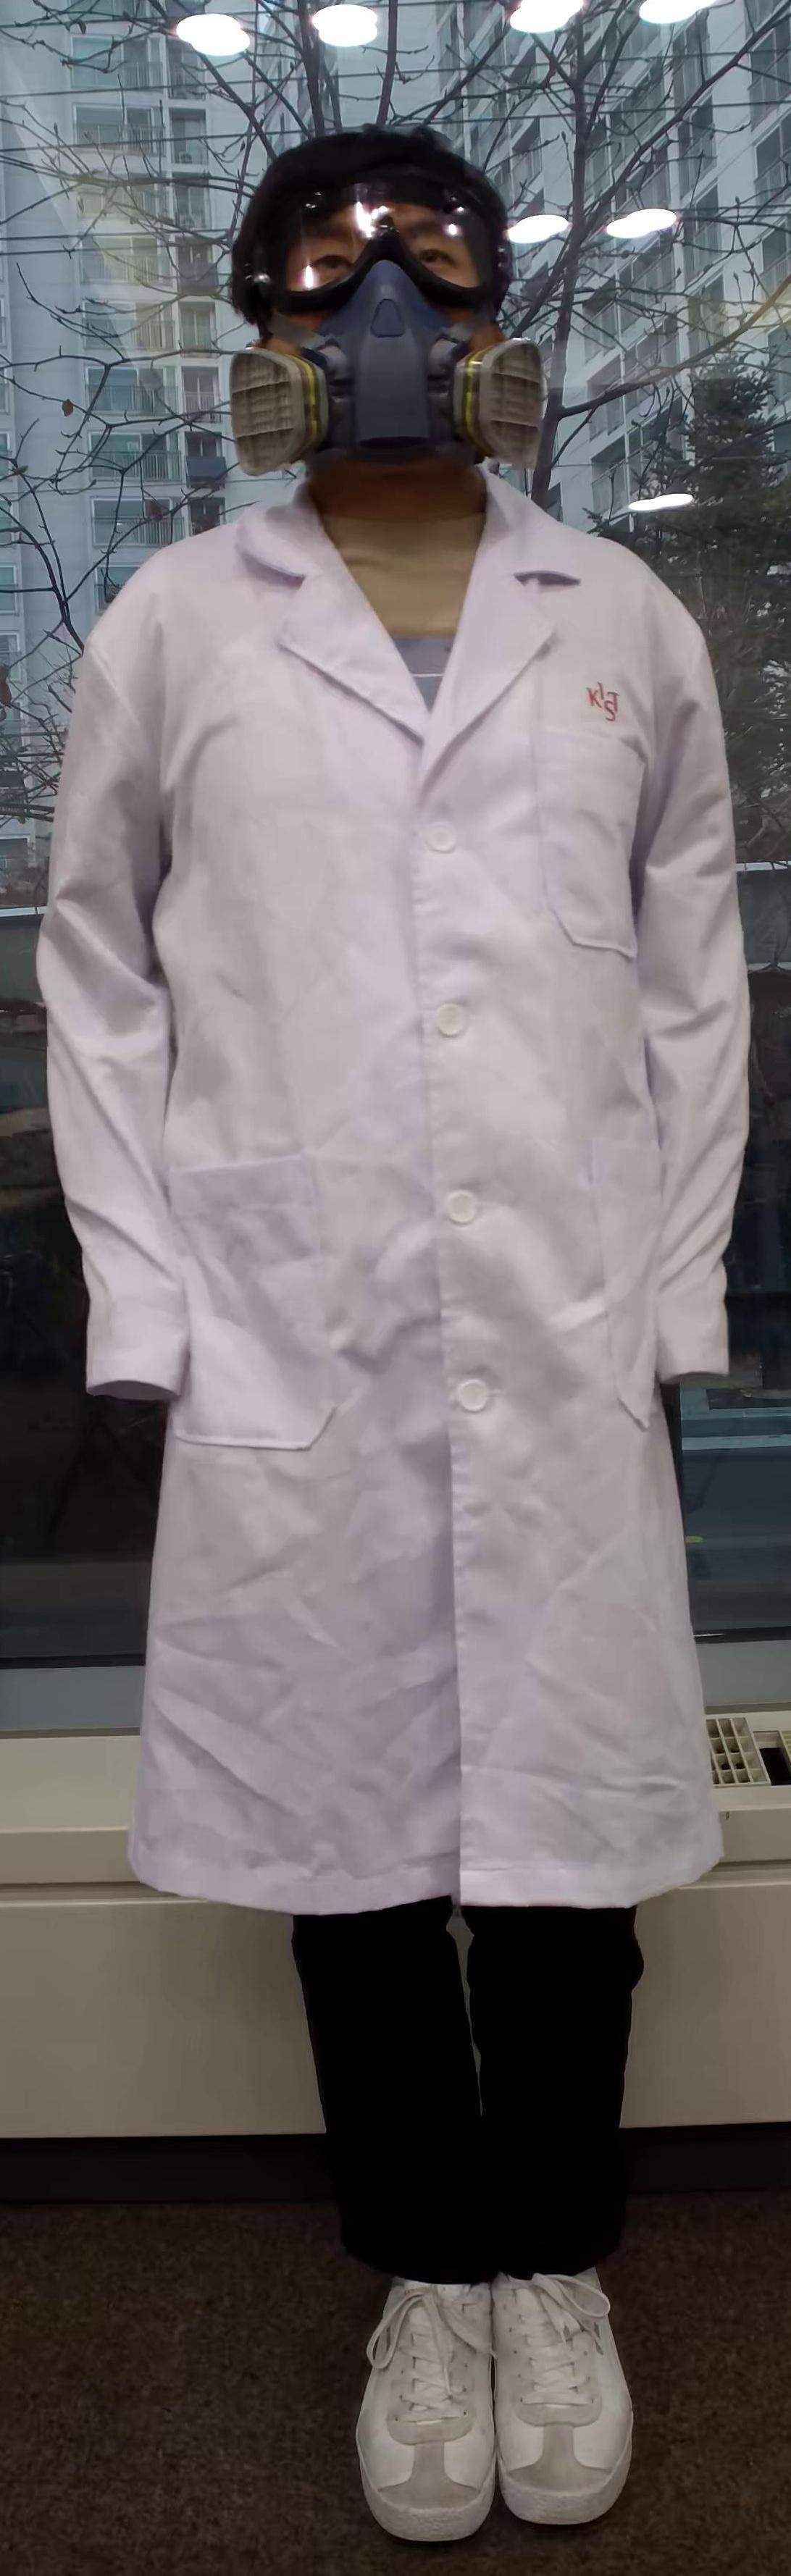lab_coat: (2, 522, 784, 1911)
